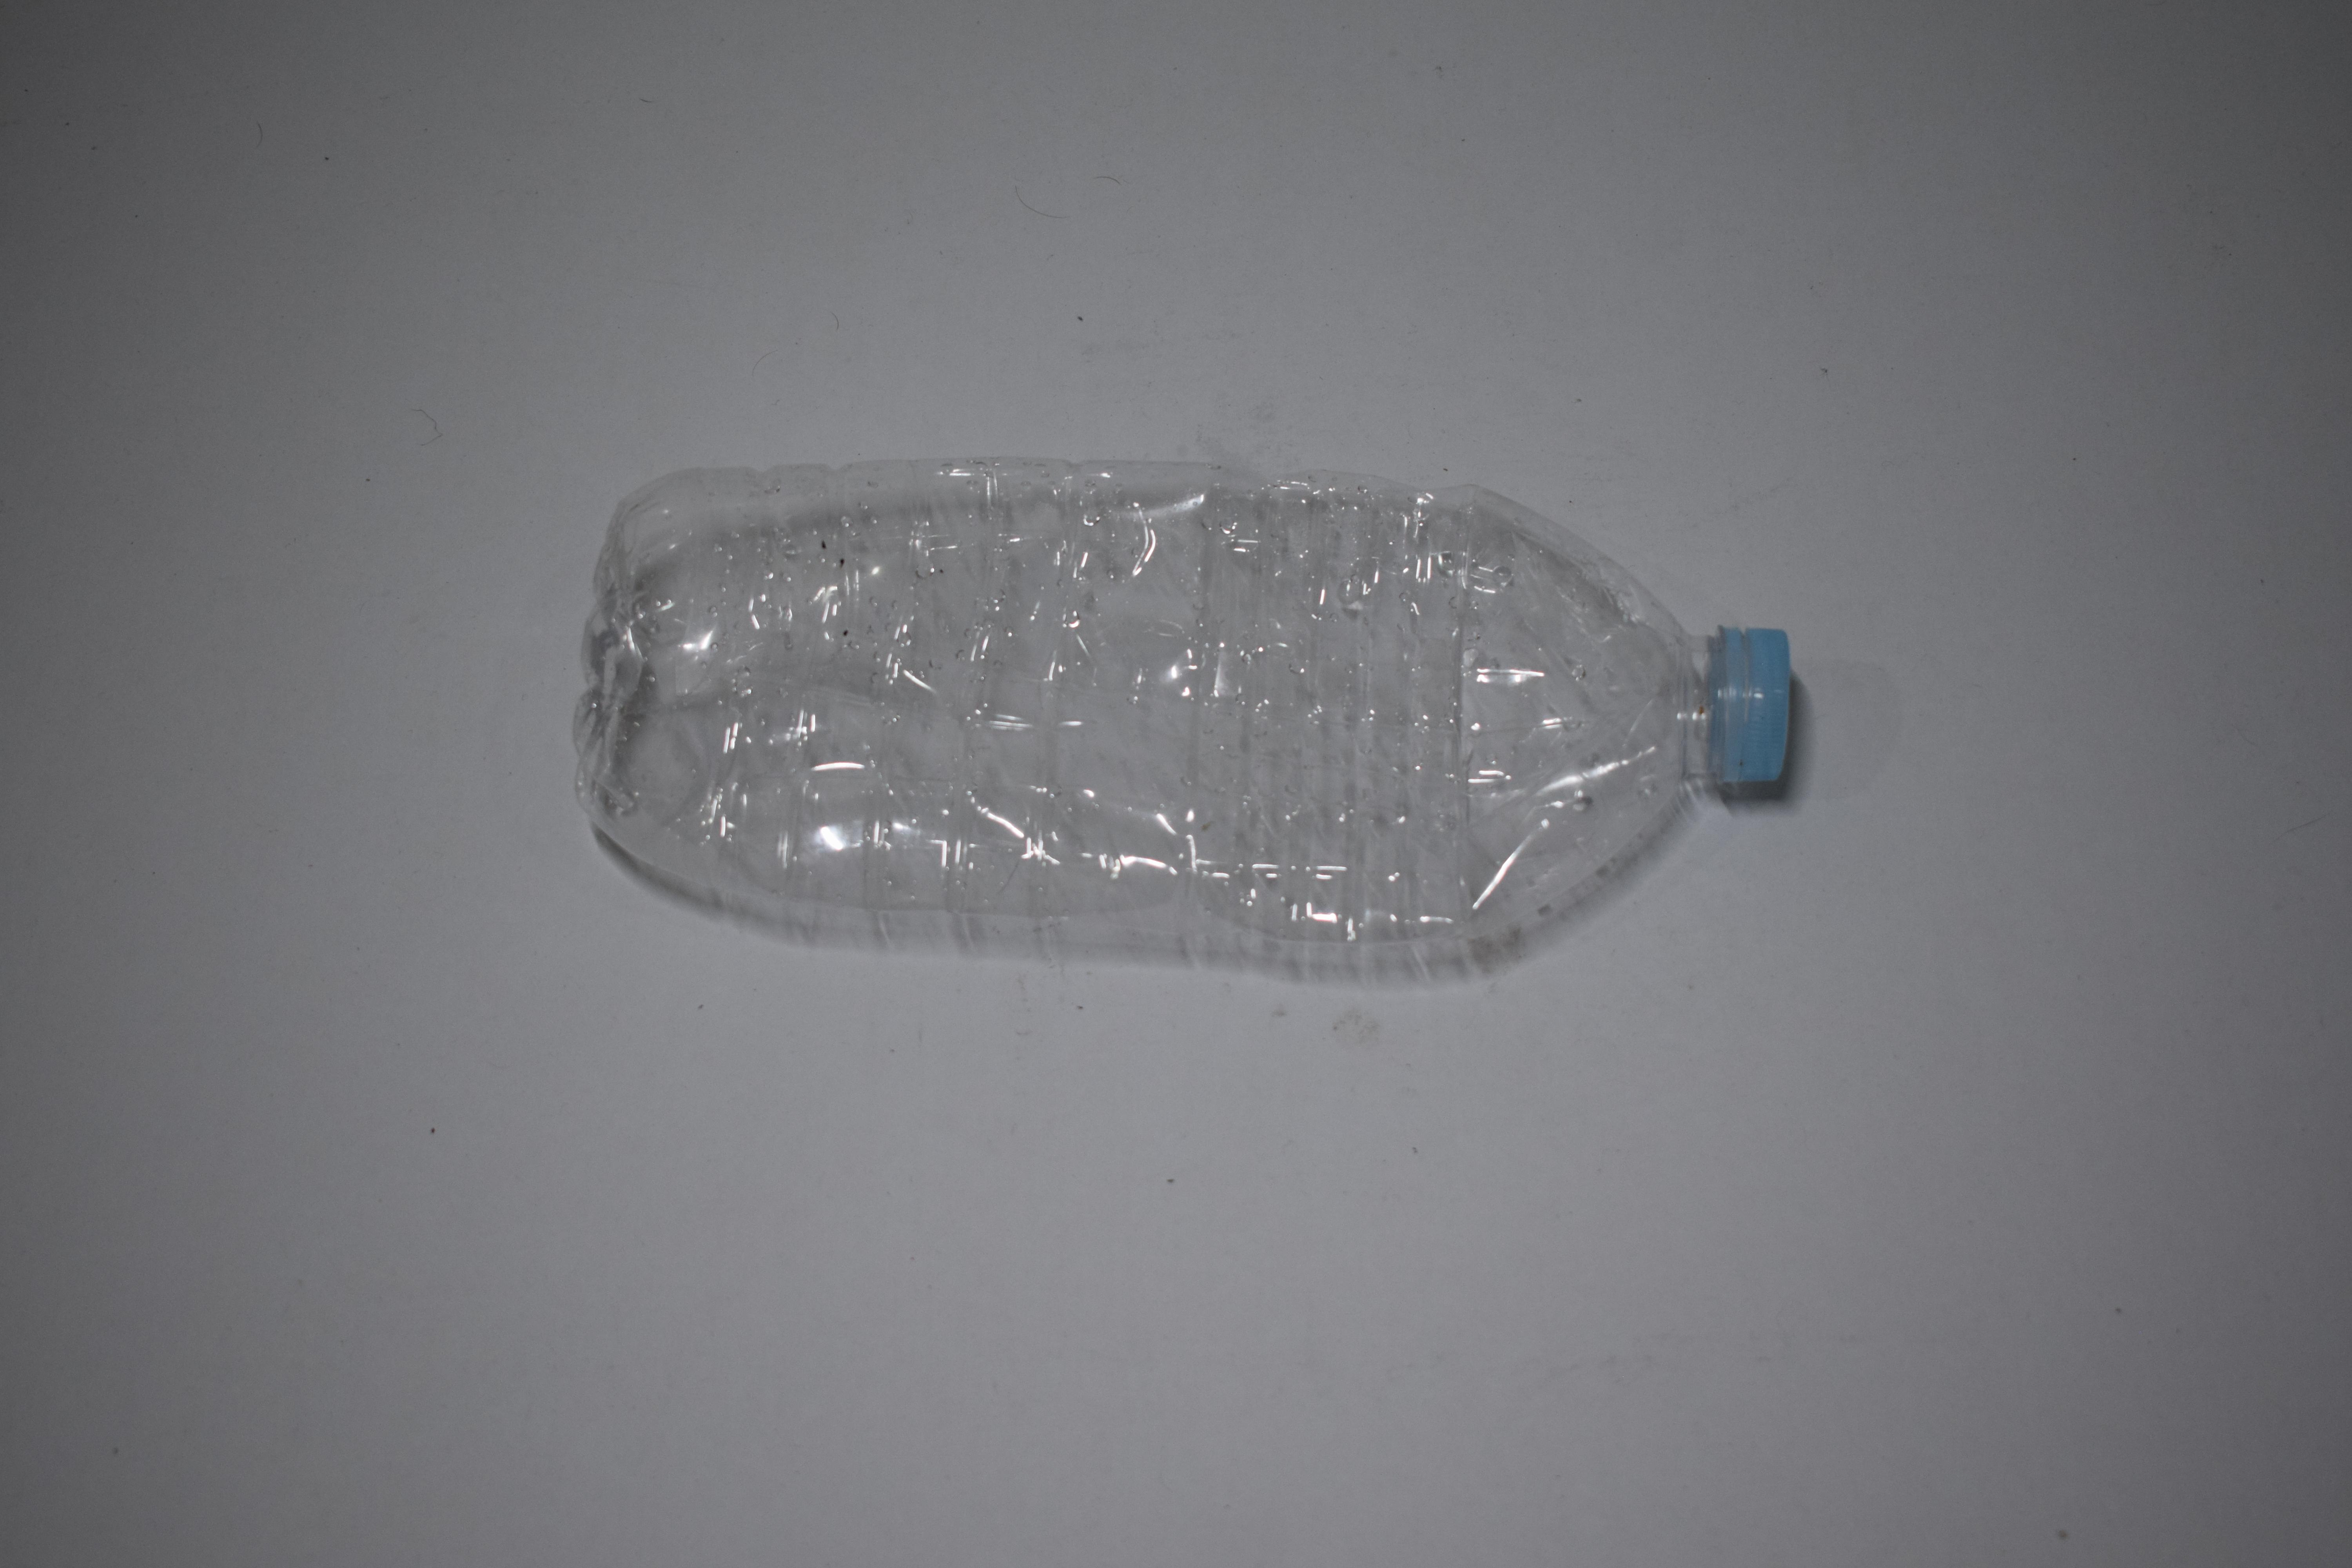bottle: (0, 361, 28, 898)
